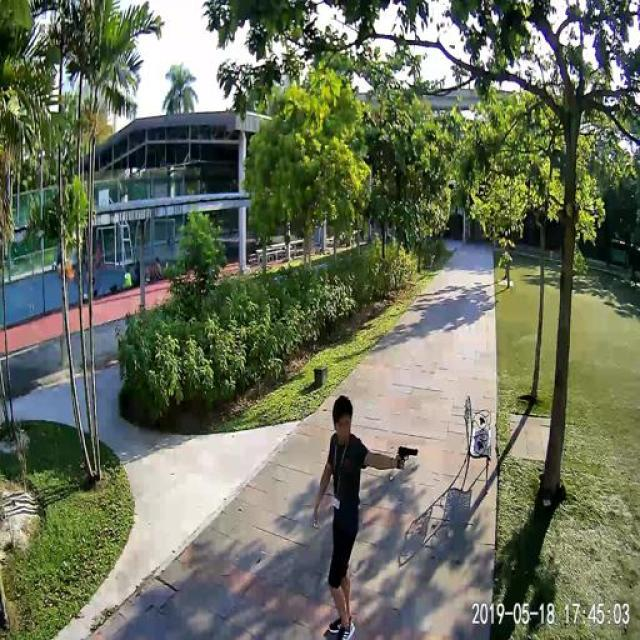Gun: (391, 438, 423, 475)
